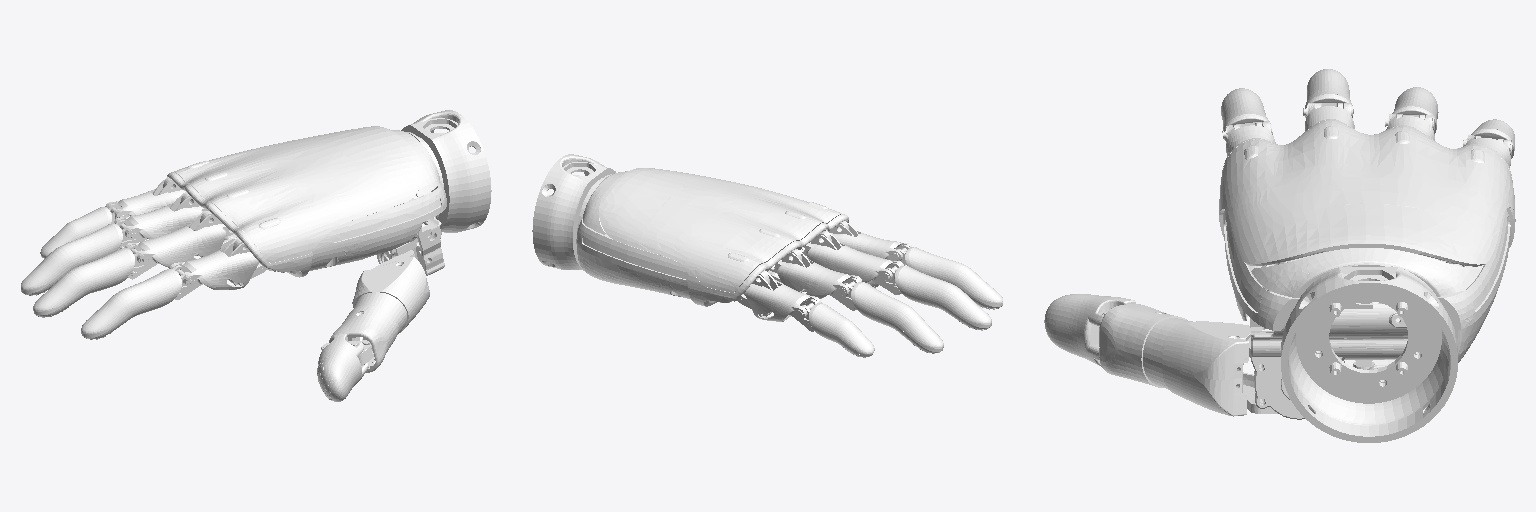
--- What the picture shows (computed from the rendered views, not written in the file) ---
The picture shows the robot from 3 angles, left to right: view 1: azimuth 30°, elevation 25°; view 2: azimuth 150°, elevation 25°; view 3: azimuth 270°, elevation 25°; orthographic projection.
Robot: rohand_right — 26 links, 25 joints (1 revolute, 19 continuous, 5 prismatic); root link base_link; default pose: all joints at 0.
Links seen in each view (by area): view 1: base_link, th_proximal_link, if_distal_link, mf_distal_link, rf_distal_link, mf_proximal_link, th_distal_link, if_proximal_link, rf_proximal_link, lf_distal_link, lf_proximal_link; view 2: base_link, mf_distal_link, rf_distal_link, if_distal_link, lf_distal_link, mf_proximal_link, rf_proximal_link, lf_proximal_link, if_proximal_link; view 3: base_link, th_proximal_link, th_distal_link, if_distal_link, mf_distal_link, rf_distal_link, mf_proximal_link, if_proximal_link, lf_distal_link, rf_proximal_link.
Boxes of the visible links, <box> form: base_link: <box>163,110,491,277</box>; th_proximal_link: <box>329,256,429,372</box>; if_distal_link: <box>81,265,194,339</box>; mf_distal_link: <box>33,245,148,317</box>; rf_distal_link: <box>21,220,136,295</box>; mf_proximal_link: <box>125,223,233,267</box>; th_distal_link: <box>317,334,368,401</box>; if_proximal_link: <box>169,246,258,289</box>; rf_proximal_link: <box>114,203,206,239</box>; lf_distal_link: <box>40,204,126,258</box>; lf_proximal_link: <box>105,189,185,219</box>; base_link: <box>532,154,849,306</box>; mf_distal_link: <box>881,263,991,330</box>; rf_distal_link: <box>838,278,943,353</box>; if_distal_link: <box>891,245,1002,309</box>; lf_distal_link: <box>796,299,874,357</box>; mf_proximal_link: <box>800,243,903,282</box>; rf_proximal_link: <box>770,259,861,298</box>; lf_proximal_link: <box>743,279,821,321</box>; if_proximal_link: <box>831,231,911,260</box>; base_link: <box>1219,119,1515,442</box>; th_proximal_link: <box>1099,304,1253,416</box>; th_distal_link: <box>1044,294,1135,366</box>; if_distal_link: <box>1221,88,1272,142</box>; mf_distal_link: <box>1303,69,1353,117</box>; rf_distal_link: <box>1385,87,1438,133</box>; mf_proximal_link: <box>1305,103,1354,130</box>; if_proximal_link: <box>1226,121,1275,156</box>; lf_distal_link: <box>1463,119,1514,158</box>; rf_proximal_link: <box>1386,114,1434,140</box>.
Size in the robot's own frame: 0.2052 by 0.1302 by 0.0698 metres.
Meshes: 26 distinct files referenced, 26 mesh visuals loaded (26 binary STL).

URDF robot description (rohand_right):
<?xml version="1.0" encoding="utf-8"?>
<!-- This URDF was automatically created by SolidWorks to URDF Exporter! Originally created by Stephen Brawner ([email redacted]) 
     Commit Version: 1.6.0-4-g7f85cfe  Build Version: 1.6.7995.38578
     For more information, please see http://wiki.ros.org/sw_urdf_exporter -->
<robot
  name="rohand_right">
  <link
    name="base_link">
    <inertial>
      <origin
        xyz="-0.0534374129596824 -0.00157154809251104 0.0032467575274062"
        rpy="0 0 0" />
      <mass
        value="0.0941614898718946" />
      <inertia
        ixx="4.1962895621209E-05"
        ixy="-3.95936210501525E-07"
        ixz="3.71581889924585E-06"
        iyy="6.1906439028121E-05"
        iyz="-7.5091963461847E-07"
        izz="8.90989074913989E-05" />
    </inertial>
    <visual>
      <origin
        xyz="0 0 0"
        rpy="0 0 0" />
      <geometry>
        <mesh
          filename="meshes_r/base_link.STL" />
      </geometry>
      <material
        name="">
        <color
          rgba="1 1 1 1" />
      </material>
    </visual>
    <collision>
      <origin
        xyz="0 0 0"
        rpy="0 0 0" />
      <geometry>
        <mesh
          filename="meshes_r/base_link.STL" />
      </geometry>
    </collision>
  </link>
  <link
    name="if_slider_link">
    <inertial>
      <origin
        xyz="-0.0138317508854737 -0.00115448052302192 1.02779733464993E-06"
        rpy="0 0 0" />
      <mass
        value="0.000489138281878773" />
      <inertia
        ixx="4.60375865761165E-09"
        ixy="-2.8127148800347E-09"
        ixz="-3.80386613632835E-12"
        iyy="3.82335085784227E-08"
        iyz="-7.1416734141464E-11"
        izz="3.92716908725489E-08" />
    </inertial>
    <visual>
      <origin
        xyz="0 0 0"
        rpy="0 0 0" />
      <geometry>
        <mesh
          filename="meshes_r/if_slider_link.STL" />
      </geometry>
      <material
        name="">
        <color
          rgba="1 1 1 1" />
      </material>
    </visual>
    <collision>
      <origin
        xyz="0 0 0"
        rpy="0 0 0" />
      <geometry>
        <mesh
          filename="meshes_r/if_slider_link.STL" />
      </geometry>
    </collision>
  </link>
  <joint
    name="if_slider_link"
    type="prismatic">
    <origin
      xyz="-0.074396 -0.026655 -0.0059032"
      rpy="0 0 0" />
    <parent
      link="base_link" />
    <child
      link="if_slider_link" />
    <axis
      xyz="0.99655 0.083049 0" />
    <limit
      lower="0"
      upper="0.019"
      effort="0"
      velocity="0" />
  </joint>
  <link
    name="if_slider_abpart_link">
    <inertial>
      <origin
        xyz="-0.00954720518211122 -0.00427267015401807 -0.000544594201914366"
        rpy="0 0 0" />
      <mass
        value="0.000526636346253179" />
      <inertia
        ixx="2.02100021410092E-09"
        ixy="-2.54226845281041E-10"
        ixz="-6.59734936904708E-10"
        iyy="5.75584791299005E-09"
        iyz="-1.16850382620202E-10"
        izz="6.47148213147093E-09" />
    </inertial>
    <visual>
      <origin
        xyz="0 0 0"
        rpy="0 0 0" />
      <geometry>
        <mesh
          filename="meshes_r/if_slider_abpart_link.STL" />
      </geometry>
      <material
        name="">
        <color
          rgba="1 1 1 1" />
      </material>
    </visual>
    <collision>
      <origin
        xyz="0 0 0"
        rpy="0 0 0" />
      <geometry>
        <mesh
          filename="meshes_r/if_slider_abpart_link.STL" />
      </geometry>
    </collision>
  </link>
  <joint
    name="if_slider_abpart_link"
    type="continuous">
    <origin
      xyz="-0.029189 0.0010654 0.00030518"
      rpy="0 0 0" />
    <parent
      link="if_slider_link" />
    <child
      link="if_slider_abpart_link" />
    <axis
      xyz="-0.082734 0.99276 0.087135" />
  </joint>
  <link
    name="if_proximal_link">
    <inertial>
      <origin
        xyz="-0.016911951986149 -0.00765749366613764 -0.00334236834850994"
        rpy="0 0 0" />
      <mass
        value="0.00154952958352476" />
      <inertia
        ixx="6.20200913201911E-08"
        ixy="-7.88931806956546E-09"
        ixz="2.14332181974192E-09"
        iyy="1.54230936622336E-07"
        iyz="-1.10636494913782E-09"
        izz="1.69485646305645E-07" />
    </inertial>
    <visual>
      <origin
        xyz="0 0 0"
        rpy="0 0 0" />
      <geometry>
        <mesh
          filename="meshes_r/if_proximal_link.STL" />
      </geometry>
      <material
        name="">
        <color
          rgba="1 1 1 1" />
      </material>
    </visual>
    <collision>
      <origin
        xyz="0 0 0"
        rpy="0 0 0" />
      <geometry>
        <mesh
          filename="meshes_r/if_proximal_link.STL" />
      </geometry>
    </collision>
  </link>
  <joint
    name="if_proximal_link"
    type="continuous">
    <origin
      xyz="-0.11324 -0.024137 0.0032314"
      rpy="0 0 0" />
    <parent
      link="base_link" />
    <child
      link="if_proximal_link" />
    <axis
      xyz="-0.082428 0.99278 0.087177" />
  </joint>
  <link
    name="if_distal_link">
    <inertial>
      <origin
        xyz="-0.0201374868799976 -0.00765839764328939 -0.00662950783512292"
        rpy="0 0 0" />
      <mass
        value="0.00486631616894411" />
      <inertia
        ixx="1.06037458594174E-07"
        ixy="-2.80052670107197E-08"
        ixz="-1.10754286705661E-07"
        iyy="5.59829063970866E-07"
        iyz="-8.01484559546708E-09"
        izz="5.48253746727419E-07" />
    </inertial>
    <visual>
      <origin
        xyz="0 0 0"
        rpy="0 0 0" />
      <geometry>
        <mesh
          filename="meshes_r/if_distal_link.STL" />
      </geometry>
      <material
        name="">
        <color
          rgba="1 1 1 1" />
      </material>
    </visual>
    <collision>
      <origin
        xyz="0 0 0"
        rpy="0 0 0" />
      <geometry>
        <mesh
          filename="meshes_r/if_distal_link.STL" />
      </geometry>
    </collision>
  </link>
  <joint
    name="if_distal_link"
    type="continuous">
    <origin
      xyz="-0.035776 -0.0028401 -0.0014841"
      rpy="0 0 0" />
    <parent
      link="if_proximal_link" />
    <child
      link="if_distal_link" />
    <axis
      xyz="-0.082428 0.99278 0.087177" />
  </joint>
  <link
    name="if_connecting_link">
    <inertial>
      <origin
        xyz="-0.0149214142555827 -0.00339461470143052 -0.00756951243385832"
        rpy="0 0 0" />
      <mass
        value="0.000197689248381643" />
      <inertia
        ixx="4.07222521241257E-09"
        ixy="-1.11279905101146E-09"
        ixz="-9.07365678556378E-09"
        iyy="2.70144151560738E-08"
        iyz="-4.02636120037544E-10"
        izz="2.30773508713418E-08" />
    </inertial>
    <visual>
      <origin
        xyz="0 0 0"
        rpy="0 0 0" />
      <geometry>
        <mesh
          filename="meshes_r/if_connecting_link.STL" />
      </geometry>
      <material
        name="">
        <color
          rgba="1 1 1 1" />
      </material>
    </visual>
    <collision>
      <origin
        xyz="0 0 0"
        rpy="0 0 0" />
      <geometry>
        <mesh
          filename="meshes_r/if_connecting_link.STL" />
      </geometry>
    </collision>
  </link>
  <joint
    name="if_connecting_link"
    type="continuous">
    <origin
      xyz="-0.12029 -0.028806 0.0072922"
      rpy="0 0 0" />
    <parent
      link="base_link" />
    <child
      link="if_connecting_link" />
    <axis
      xyz="-0.082428 0.99278 0.087177" />
  </joint>
  <link
    name="mf_slider_link">
    <inertial>
      <origin
        xyz="-0.0138786110407517 -0.000185270392211319 -7.69158771327105E-08"
        rpy="0 0 0" />
      <mass
        value="0.000489138286069735" />
      <inertia
        ixx="4.37587749533903E-09"
        ixy="-4.42411170419709E-10"
        ixz="-1.36586897440314E-11"
        iyy="3.84552026805131E-08"
        iyz="-1.78840748392823E-13"
        izz="3.92778850218071E-08" />
    </inertial>
    <visual>
      <origin
        xyz="0 0 0"
        rpy="0 0 0" />
      <geometry>
        <mesh
          filename="meshes_r/mf_slider_link.STL" />
      </geometry>
      <material
        name="">
        <color
          rgba="1 1 1 1" />
      </material>
    </visual>
    <collision>
      <origin
        xyz="0 0 0"
        rpy="0 0 0" />
      <geometry>
        <mesh
          filename="meshes_r/mf_slider_link.STL" />
      </geometry>
    </collision>
  </link>
  <joint
    name="mf_slider_link"
    type="prismatic">
    <origin
      xyz="-0.076974 -0.010077 -0.0016353"
      rpy="0 0 0" />
    <parent
      link="base_link" />
    <child
      link="mf_slider_link" />
    <axis
      xyz="0.99991 0.013228 0.00010039" />
    <limit
      lower="0"
      upper="0.019"
      effort="0"
      velocity="0" />
  </joint>
  <link
    name="mf_slider_abpart_link">
    <inertial>
      <origin
        xyz="-0.0098119455834705 -0.00362935245878584 -0.000504858603029756"
        rpy="0 0 0" />
      <mass
        value="0.000526636368526203" />
      <inertia
        ixx="2.04436010906919E-09"
        ixy="-4.91500227589239E-11"
        ixz="-7.8831220122798E-10"
        iyy="5.7661259675915E-09"
        iyz="-1.04922947060781E-11"
        izz="6.43784527640786E-09" />
    </inertial>
    <visual>
      <origin
        xyz="0 0 0"
        rpy="0 0 0" />
      <geometry>
        <mesh
          filename="meshes_r/mf_slider_abpart_link.STL" />
      </geometry>
      <material
        name="">
        <color
          rgba="1 1 1 1" />
      </material>
    </visual>
    <collision>
      <origin
        xyz="0 0 0"
        rpy="0 0 0" />
      <geometry>
        <mesh
          filename="meshes_r/mf_slider_abpart_link.STL" />
      </geometry>
    </collision>
  </link>
  <joint
    name="mf_slider_abpart_link"
    type="continuous">
    <origin
      xyz="-0.029044 0.0031153 0"
      rpy="0 0 0" />
    <parent
      link="mf_slider_link" />
    <child
      link="mf_slider_abpart_link" />
    <axis
      xyz="-0.013228 0.99991 7.2594E-05" />
  </joint>
  <link
    name="mf_proximal_link">
    <inertial>
      <origin
        xyz="-0.0197978588062098 -0.00676309331424427 -0.00446755065405406"
        rpy="0 0 0" />
      <mass
        value="0.00189501857338832" />
      <inertia
        ixx="7.78041708071735E-08"
        ixy="-2.0667592450232E-09"
        ixz="-1.00293189957718E-08"
        iyy="2.34038237089644E-07"
        iyz="-1.31948795498825E-10"
        izz="2.46195986184317E-07" />
    </inertial>
    <visual>
      <origin
        xyz="0 0 0"
        rpy="0 0 0" />
      <geometry>
        <mesh
          filename="meshes_r/mf_proximal_link.STL" />
      </geometry>
      <material
        name="">
        <color
          rgba="1 1 1 1" />
      </material>
    </visual>
    <collision>
      <origin
        xyz="0 0 0"
        rpy="0 0 0" />
      <geometry>
        <mesh
          filename="meshes_r/mf_proximal_link.STL" />
      </geometry>
    </collision>
  </link>
  <joint
    name="mf_proximal_link"
    type="continuous">
    <origin
      xyz="-0.11605 -0.0040932 0.0069659"
      rpy="0 0 0" />
    <parent
      link="base_link" />
    <child
      link="mf_proximal_link" />
    <axis
      xyz="-0.013244 0.99991 -4.2699E-05" />
  </joint>
  <link
    name="mf_distal_link">
    <inertial>
      <origin
        xyz="-0.0205799567083225 -0.00679450784333847 -0.00619598626408838"
        rpy="0 0 0" />
      <mass
        value="0.00486610881870854" />
      <inertia
        ixx="1.05820356063162E-07"
        ixy="-5.96217069992573E-09"
        ixz="-1.13841963470745E-07"
        iyy="5.61305496694097E-07"
        iyz="-1.48710666865769E-09"
        izz="5.46868992272727E-07" />
    </inertial>
    <visual>
      <origin
        xyz="0 0 0"
        rpy="0 0 0" />
      <geometry>
        <mesh
          filename="meshes_r/mf_distal_link.STL" />
      </geometry>
      <material
        name="">
        <color
          rgba="1 1 1 1" />
      </material>
    </visual>
    <collision>
      <origin
        xyz="0 0 0"
        rpy="0 0 0" />
      <geometry>
        <mesh
          filename="meshes_r/mf_distal_link.STL" />
      </geometry>
    </collision>
  </link>
  <joint
    name="mf_distal_link"
    type="continuous">
    <origin
      xyz="-0.040851 -0.00054126 -0.0035364"
      rpy="0 0 0" />
    <parent
      link="mf_proximal_link" />
    <child
      link="mf_distal_link" />
    <axis
      xyz="-0.013244 0.99991 -2.1055E-05" />
  </joint>
  <link
    name="mf_connecting_link">
    <inertial>
      <origin
        xyz="-0.0172404027176054 -0.00302882403489448 -0.00839495079986684"
        rpy="0 0 0" />
      <mass
        value="0.000216186298115104" />
      <inertia
        ixx="5.71911032121687E-09"
        ixy="-4.34635722671368E-10"
        ixz="-1.31282576362091E-08"
        iyy="3.85062669375328E-08"
        iyz="-1.74010213990928E-10"
        izz="3.28217382655966E-08" />
    </inertial>
    <visual>
      <origin
        xyz="0 0 0"
        rpy="0 0 0" />
      <geometry>
        <mesh
          filename="meshes_r/mf_connecting_link.STL" />
      </geometry>
      <material
        name="">
        <color
          rgba="1 1 1 1" />
      </material>
    </visual>
    <collision>
      <origin
        xyz="0 0 0"
        rpy="0 0 0" />
      <geometry>
        <mesh
          filename="meshes_r/mf_connecting_link.STL" />
      </geometry>
    </collision>
  </link>
  <joint
    name="mf_connecting_link"
    type="continuous">
    <origin
      xyz="-0.12342 -0.0078912 0.011366"
      rpy="0 0 0" />
    <parent
      link="base_link" />
    <child
      link="mf_connecting_link" />
    <axis
      xyz="-0.013244 0.99991 -2.1054E-05" />
  </joint>
  <link
    name="rf_slider_link">
    <inertial>
      <origin
        xyz="-0.0138577276275272 0.000783291982999354 -2.57947158771588E-09"
        rpy="0 0 0" />
      <mass
        value="0.000489138255422532" />
      <inertia
        ixx="4.4801306165684E-09"
        ixy="1.93332298746995E-09"
        ixz="-1.34549090986576E-11"
        iyy="3.83509471510986E-08"
        iyz="7.58561752901306E-13"
        izz="3.92778831148437E-08" />
    </inertial>
    <visual>
      <origin
        xyz="0 0 0"
        rpy="0 0 0" />
      <geometry>
        <mesh
          filename="meshes_r/rf_slider_link.STL" />
      </geometry>
      <material
        name="">
        <color
          rgba="1 1 1 1" />
      </material>
    </visual>
    <collision>
      <origin
        xyz="0 0 0"
        rpy="0 0 0" />
      <geometry>
        <mesh
          filename="meshes_r/rf_slider_link.STL" />
      </geometry>
    </collision>
  </link>
  <joint
    name="rf_slider_link"
    type="prismatic">
    <origin
      xyz="-0.074498 0.0072492 -0.0023801"
      rpy="0 0 0" />
    <parent
      link="base_link" />
    <child
      link="rf_slider_link" />
    <axis
      xyz="0.9984 -0.056554 9.5082E-05" />
    <limit
      lower="0"
      upper="0.019"
      effort="0"
      velocity="0" />
  </joint>
  <link
    name="rf_slider_abpart_link">
    <inertial>
      <origin
        xyz="-0.0100460782718657 -0.00293580717799607 -0.000398409844149738"
        rpy="0 0 0" />
      <mass
        value="0.000526636350514617" />
      <inertia
        ixx="2.03917187638513E-09"
        ixy="2.11241960983381E-10"
        ixz="-7.39578422790513E-10"
        iyy="5.75480358477282E-09"
        iyz="4.18225341671665E-11"
        izz="6.45435515888634E-09" />
    </inertial>
    <visual>
      <origin
        xyz="0 0 0"
        rpy="0 0 0" />
      <geometry>
        <mesh
          filename="meshes_r/rf_slider_abpart_link.STL" />
      </geometry>
      <material
        name="">
        <color
          rgba="1 1 1 1" />
      </material>
    </visual>
    <collision>
      <origin
        xyz="0 0 0"
        rpy="0 0 0" />
      <geometry>
        <mesh
          filename="meshes_r/rf_slider_abpart_link.STL" />
      </geometry>
    </collision>
  </link>
  <joint
    name="rf_slider_abpart_link"
    type="continuous">
    <origin
      xyz="-0.028756 0.0051336 0"
      rpy="0 0 0" />
    <parent
      link="rf_slider_link" />
    <child
      link="rf_slider_abpart_link" />
    <axis
      xyz="0.056554 0.9984 7.942E-05" />
  </joint>
  <link
    name="rf_proximal_link">
    <inertial>
      <origin
        xyz="-0.0177310287909376 -0.00550519929476113 -0.00333587081746279"
        rpy="0 0 0" />
      <mass
        value="0.0015495346822944" />
      <inertia
        ixx="6.1627993173526E-08"
        ixy="5.28043591321876E-09"
        ixz="-1.35824301643415E-09"
        iyy="1.54490462686207E-07"
        iyz="8.36929214668239E-11"
        izz="1.69619189994361E-07" />
    </inertial>
    <visual>
      <origin
        xyz="0 0 0"
        rpy="0 0 0" />
      <geometry>
        <mesh
          filename="meshes_r/rf_proximal_link.STL" />
      </geometry>
      <material
        name="">
        <color
          rgba="1 1 1 1" />
      </material>
    </visual>
    <collision>
      <origin
        xyz="0 0 0"
        rpy="0 0 0" />
      <geometry>
        <mesh
          filename="meshes_r/rf_proximal_link.STL" />
      </geometry>
    </collision>
  </link>
  <joint
    name="rf_proximal_link"
    type="continuous">
    <origin
      xyz="-0.11287 0.015935 0.0062161"
      rpy="0 0 0" />
    <parent
      link="base_link" />
    <child
      link="rf_proximal_link" />
    <axis
      xyz="0.05658 0.9984 -2.102E-05" />
  </joint>
  <link
    name="rf_distal_link">
    <inertial>
      <origin
        xyz="-0.0205452704454659 -0.00536749629258281 -0.00756097673363692"
        rpy="0 0 0" />
      <mass
        value="0.00486607601001256" />
      <inertia
        ixx="1.24271987974525E-07"
        ixy="2.48401012771062E-08"
        ixz="-1.41965837565003E-07"
        iyy="5.59956587625226E-07"
        iyz="8.06905373260045E-09"
        izz="5.29737231583633E-07" />
    </inertial>
    <visual>
      <origin
        xyz="0 0 0"
        rpy="0 0 0" />
      <geometry>
        <mesh
          filename="meshes_r/rf_distal_link.STL" />
      </geometry>
      <material
        name="">
        <color
          rgba="1 1 1 1" />
      </material>
    </visual>
    <collision>
      <origin
        xyz="0 0 0"
        rpy="0 0 0" />
      <geometry>
        <mesh
          filename="meshes_r/rf_distal_link.STL" />
      </geometry>
    </collision>
  </link>
  <joint
    name="rf_distal_link"
    type="continuous">
    <origin
      xyz="-0.035766 0.0020268 -0.0026198"
      rpy="0 0 0" />
    <parent
      link="rf_proximal_link" />
    <child
      link="rf_distal_link" />
    <axis
      xyz="0.05658 0.9984 -2.102E-05" />
  </joint>
  <link
    name="rf_connecting_link">
    <inertial>
      <origin
        xyz="-0.0149581978586362 -0.00195701448922151 -0.00799324332753841"
        rpy="0 0 0" />
      <mass
        value="0.000197689252304948" />
      <inertia
        ixx="4.92836846137584E-09"
        ixy="1.25465287447078E-09"
        ixz="-9.87167520544273E-09"
        iyy="2.70003622691774E-08"
        iyz="5.59331393640482E-10"
        izz="2.22352610693874E-08" />
    </inertial>
    <visual>
      <origin
        xyz="0 0 0"
        rpy="0 0 0" />
      <geometry>
        <mesh
          filename="meshes_r/rf_connecting_link.STL" />
      </geometry>
      <material
        name="">
        <color
          rgba="1 1 1 1" />
      </material>
    </visual>
    <collision>
      <origin
        xyz="0 0 0"
        rpy="0 0 0" />
      <geometry>
        <mesh
          filename="meshes_r/rf_connecting_link.STL" />
      </geometry>
    </collision>
  </link>
  <joint
    name="rf_connecting_link"
    type="continuous">
    <origin
      xyz="-0.1204851022382 0.0126604995038233 0.0106153804877178"
      rpy="0 0 0" />
    <parent
      link="base_link" />
    <child
      link="rf_connecting_link" />
    <axis
      xyz="0.0565797489260885 0.99839808271532 -2.10198201110756E-05" />
  </joint>
  <link
    name="lf_slider_link">
    <inertial>
      <origin
        xyz="-0.0137830050652566 0.00163673819958291 3.10002635612108E-07"
        rpy="0 0 0" />
      <mass
        value="0.000489138222296884" />
      <inertia
        ixx="4.84694102463702E-09"
        ixy="4.00378603315495E-09"
        ixz="-5.27247404385965E-12"
        iyy="3.79903471786704E-08"
        iyz="7.21125885153376E-11"
        izz="3.92716625459811E-08" />
    </inertial>
    <visual>
      <origin
        xyz="0 0 0"
        rpy="0 0 0" />
      <geometry>
        <mesh
          filename="meshes_r/lf_slider_link.STL" />
      </geometry>
      <material
        name="">
        <color
          rgba="1 1 1 1" />
      </material>
    </visual>
    <collision>
      <origin
        xyz="0 0 0"
        rpy="0 0 0" />
      <geometry>
        <mesh
          filename="meshes_r/lf_slider_link.STL" />
      </geometry>
    </collision>
  </link>
  <joint
    name="lf_slider_link"
    type="prismatic">
    <origin
      xyz="-0.0708466334619896 0.0241824111749996 -0.00489967270216645"
      rpy="0 0 0" />
    <parent
      link="base_link" />
    <child
      link="lf_slider_link" />
    <axis
      xyz="0.993009723934899 -0.118032543523823 8.27044911595336E-05" />
    <limit
      lower="0"
      upper="0.019"
      effort="0"
      velocity="0" />
  </joint>
  <link
    name="lf_slider_abpart_link">
    <inertial>
      <origin
        xyz="-0.0102063555652567 -0.00234259650590587 -0.000209525841910842"
        rpy="0 0 0" />
      <mass
        value="0.000526636335571007" />
      <inertia
        ixx="2.08132552306167E-09"
        ixy="3.69565387537111E-10"
        ixz="-7.78261185028171E-10"
        iyy="5.73614117437819E-09"
        iyz="1.51002988209835E-10"
        izz="6.43086320825401E-09" />
    </inertial>
    <visual>
      <origin
        xyz="0 0 0"
        rpy="0 0 0" />
      <geometry>
        <mesh
          filename="meshes_r/lf_slider_abpart_link.STL" />
      </geometry>
      <material
        name="">
        <color
          rgba="1 1 1 1" />
      </material>
    </visual>
    <collision>
      <origin
        xyz="0 0 0"
        rpy="0 0 0" />
      <geometry>
        <mesh
          filename="meshes_r/lf_slider_abpart_link.STL" />
      </geometry>
    </collision>
  </link>
  <joint
    name="lf_slider_abpart_link"
    type="continuous">
    <origin
      xyz="-0.0283858043783233 0.00688449840682251 -0.000306788289491815"
      rpy="0 0 0" />
    <parent
      link="lf_slider_link" />
    <child
      link="lf_slider_abpart_link" />
    <axis
      xyz="0.117590610595967 0.989230669602698 -0.0871500465694956" />
  </joint>
  <link
    name="lf_proximal_link">
    <inertial>
      <origin
        xyz="-0.0162288997665586 -0.00489295515461147 -0.00285461884567003"
        rpy="0 0 0" />
      <mass
        value="0.00136677973237" />
      <inertia
        ixx="5.65577187001445E-08"
        ixy="6.43606986195803E-09"
        ixz="-2.86666526076883E-09"
        iyy="1.12197398928047E-07"
        iyz="1.61247214480287E-09"
        izz="1.27256606416047E-07" />
    </inertial>
    <visual>
      <origin
        xyz="0 0 0"
        rpy="0 0 0" />
      <geometry>
        <mesh
          filename="meshes_r/lf_proximal_link.STL" />
      </geometry>
      <material
        name="">
        <color
          rgba="1 1 1 1" />
      </material>
    </visual>
    <collision>
      <origin
        xyz="0 0 0"
        rpy="0 0 0" />
      <geometry>
        <mesh
          filename="meshes_r/lf_proximal_link.STL" />
      </geometry>
    </collision>
  </link>
  <joint
    name="lf_proximal_link"
    type="continuous">
    <origin
      xyz="-0.10871130258864 0.0359583660197833 0.00309824490260681"
      rpy="0 0 0" />
    <parent
      link="base_link" />
    <child
      link="lf_proximal_link" />
    <axis
      xyz="0.117591058209323 0.989234457465869 -0.0871064359930968" />
  </joint>
  <link
    name="lf_distal_link">
    <inertial>
      <origin
        xyz="-0.0131613846630599 -0.00544871200568296 -0.00463526283326208"
        rpy="0 0 0" />
      <mass
        value="0.00326999621591245" />
      <inertia
        ixx="5.95701111045849E-08"
        ixy="7.82239562000353E-09"
        ixz="-3.78877982628279E-08"
        iyy="1.53009904450743E-07"
        iyz="4.48079481900786E-09"
        izz="1.53335411327093E-07" />
    </inertial>
    <visual>
      <origin
        xyz="0 0 0"
        rpy="0 0 0" />
      <geometry>
        <mesh
          filename="meshes_r/lf_distal_link.STL" />
      </geometry>
      <material
        name="">
        <color
          rgba="1 1 1 1" />
      </material>
    </visual>
    <collision>
      <origin
        xyz="0 0 0"
        rpy="0 0 0" />
      <geometry>
        <mesh
          filename="meshes_r/lf_distal_link.STL" />
      </geometry>
    </collision>
  </link>
  <joint
    name="lf_distal_link"
    type="continuous">
    <origin
      xyz="-0.031562 0.0034532 -0.003392"
      rpy="0 0 0" />
    <parent
      link="lf_proximal_link" />
    <child
      link="lf_distal_link" />
    <axis
      xyz="0.11759 0.98923 -0.087106" />
  </joint>
  <link
    name="lf_connecting_link">
    <inertial>
      <origin
        xyz="-0.0129208949539236 -0.00198480160598055 -0.00783823800520824"
        rpy="0 0 0" />
      <mass
        value="0.000176981602686642" />
      <inertia
        ixx="4.93706907107081E-09"
        ixy="1.08018685509757E-09"
        ixz="-8.19111708831926E-09"
        iyy="2.00115909902661E-08"
        iyz="5.47675927664685E-10"
        izz="1.52537546369551E-08" />
    </inertial>
    <visual>
      <origin
        xyz="0 0 0"
        rpy="0 0 0" />
      <geometry>
        <mesh
          filename="meshes_r/lf_connecting_link.STL" />
      </geometry>
      <material
        name="">
        <color
          rgba="1 1 1 1" />
      </material>
    </visual>
    <collision>
      <origin
        xyz="0 0 0"
        rpy="0 0 0" />
      <geometry>
        <mesh
          filename="meshes_r/lf_connecting_link.STL" />
      </geometry>
    </collision>
  </link>
  <joint
    name="lf_connecting_link"
    type="continuous">
    <origin
      xyz="-0.11647 0.033555 0.0078033"
      rpy="0 0 0" />
    <parent
      link="base_link" />
    <child
      link="lf_connecting_link" />
    <axis
      xyz="0.11759 0.98924 -0.087085" />
  </joint>
  <link
    name="th_root_link">
    <inertial>
      <origin
        xyz="-0.0182056024312271 -0.00620278411274924 -0.00602504863372063"
        rpy="0 0 0" />
      <mass
        value="0.00217782328356739" />
      <inertia
        ixx="1.92048481479894E-07"
        ixy="-8.02008675069051E-08"
        ixz="-1.58292104587684E-08"
        iyy="1.97385228513266E-07"
        iyz="-2.84372060188982E-08"
        izz="2.25370032308905E-07" />
    </inertial>
    <visual>
      <origin
        xyz="0 0 0"
        rpy="0 0 0" />
      <geometry>
        <mesh
          filename="meshes_r/th_root_link.STL" />
      </geometry>
      <material
        name="">
        <color
          rgba="1 1 1 1" />
      </material>
    </visual>
    <collision>
      <origin
        xyz="0 0 0"
        rpy="0 0 0" />
      <geometry>
        <mesh
          filename="meshes_r/th_root_link.STL" />
      </geometry>
    </collision>
  </link>
  <joint
    name="th_root_link"
    type="revolute">
    <origin
      xyz="-0.024656 -0.019554 -0.018266"
      rpy="0 0 0" />
    <parent
      link="base_link" />
    <child
      link="th_root_link" />
    <axis
      xyz="0.97616 0.01293 0.21667" />
    <limit
      lower="0"
      upper="1.57"
      effort="0"
      velocity="0" />
  </joint>
  <link
    name="th_proximal_link">
    <inertial>
      <origin
        xyz="-0.0184116092810015 -0.0115354100517607 0.00417628792862241"
        rpy="0 0 0" />
      <mass
        value="0.00501307756145889" />
      <inertia
        ixx="7.32552864862064E-07"
        ixy="-6.67933190699978E-07"
        ixz="-2.77355271268145E-07"
        iyy="1.50720254529732E-06"
        iyz="-1.29786986672997E-07"
        izz="2.02068566316036E-06" />
    </inertial>
    <visual>
      <origin
        xyz="0 0 0"
        rpy="0 0 0" />
      <geometry>
        <mesh
          filename="meshes_r/th_proximal_link.STL" />
      </geometry>
      <material
        name="">
        <color
          rgba="1 1 1 1" />
      </material>
    </visual>
    <collision>
      <origin
        xyz="0 0 0"
        rpy="0 0 0" />
      <geometry>
        <mesh
          filename="meshes_r/th_proximal_link.STL" />
      </geometry>
    </collision>
  </link>
  <joint
    name="th_proximal_link"
    type="continuous">
    <origin
      xyz="-0.025097 -0.021667 -0.015581"
      rpy="0 0 0" />
    <parent
      link="th_root_link" />
    <child
      link="th_proximal_link" />
    <axis
      xyz="-0.21699 -0.032029 0.97565" />
  </joint>
  <link
    name="th_slider_link">
    <inertial>
      <origin
        xyz="-0.00851609590265527 -0.00542248522665952 -0.00171626270578038"
        rpy="0 0 0" />
      <mass
        value="0.000966927715708797" />
      <inertia
        ixx="4.78157132134601E-08"
        ixy="-2.60371829130736E-08"
        ixz="-1.95870059545572E-09"
        iyy="5.57310162346669E-08"
        iyz="-5.63523062150475E-09"
        izz="6.02181085440815E-08" />
    </inertial>
    <visual>
      <origin
        xyz="0 0 0"
        rpy="0 0 0" />
      <geometry>
        <mesh
          filename="meshes_r/th_slider_link.STL" />
      </geometry>
      <material
        name="">
        <color
          rgba="1 1 1 1" />
      </material>
    </visual>
    <collision>
      <origin
        xyz="0 0 0"
        rpy="0 0 0" />
      <geometry>
        <mesh
          filename="meshes_r/th_slider_link.STL" />
      </geometry>
    </collision>
  </link>
  <joint
    name="th_slider_link"
    type="prismatic">
    <origin
      xyz="-0.0053401 -0.0053494 0.0068801"
      rpy="0 0 0" />
    <parent
      link="th_proximal_link" />
    <child
      link="th_slider_link" />
    <axis
      xyz="-0.76198 -0.63028 -0.14877" />
    <limit
      lower="0"
      upper="0.01"
      effort="0"
      velocity="0" />
  </joint>
  <link
    name="th_connecting_link">
    <inertial>
      <origin
        xyz="-0.00136684006934208 -0.00145247600958444 -0.00439754221886702"
        rpy="0 0 0" />
      <mass
        value="0.000607798102631607" />
      <inertia
        ixx="4.70576711466197E-09"
        ixy="-1.33681610352704E-09"
        ixz="-8.45531416476559E-11"
        iyy="6.82689720568738E-09"
        iyz="-3.48022069928473E-10"
        izz="5.2757667153237E-09" />
    </inertial>
    <visual>
      <origin
        xyz="0 0 0"
        rpy="0 0 0" />
      <geometry>
        <mesh
          filename="meshes_r/th_connecting_link.STL" />
      </geometry>
      <material
        name="">
        <color
          rgba="1 1 1 1" />
      </material>
    </visual>
    <collision>
      <origin
        xyz="0 0 0"
        rpy="0 0 0" />
      <geometry>
        <mesh
          filename="meshes_r/th_connecting_link.STL" />
      </geometry>
    </collision>
  </link>
  <joint
    name="th_connecting_link"
    type="continuous">
    <origin
      xyz="-0.026144 -0.020984 -0.0010258"
      rpy="0 0 0" />
    <parent
      link="th_slider_link" />
    <child
      link="th_connecting_link" />
    <axis
      xyz="-0.21699 0.032029 0.97565" />
  </joint>
  <link
    name="th_distal_link">
    <inertial>
      <origin
        xyz="-0.000439994899924894 -0.0101522919044099 -0.0069088261128312"
        rpy="0 0 0" />
      <mass
        value="0.00601772502419511" />
      <inertia
        ixx="2.88077211935751E-07"
        ixy="-5.85470950376845E-08"
        ixz="1.21533994284891E-08"
        iyy="2.18588933453259E-07"
        iyz="-1.22530053465934E-08"
        izz="2.45149442778336E-07" />
    </inertial>
    <visual>
      <origin
        xyz="0 0 0"
        rpy="0 0 0" />
      <geometry>
        <mesh
          filename="meshes_r/th_distal_link.STL" />
      </geometry>
      <material
        name="">
        <color
          rgba="1 1 1 1" />
      </material>
    </visual>
    <collision>
      <origin
        xyz="0 0 0"
        rpy="0 0 0" />
      <geometry>
        <mesh
          filename="meshes_r/th_distal_link.STL" />
      </geometry>
    </collision>
  </link>
  <joint
    name="th_distal_link"
    type="continuous">
    <origin
      xyz="-0.049076 -0.023254 0.004868"
      rpy="0 0 0" />
    <parent
      link="th_proximal_link" />
    <child
      link="th_distal_link" />
    <axis
      xyz="-0.21698 0.032029 0.97565" />
  </joint>
</robot>
